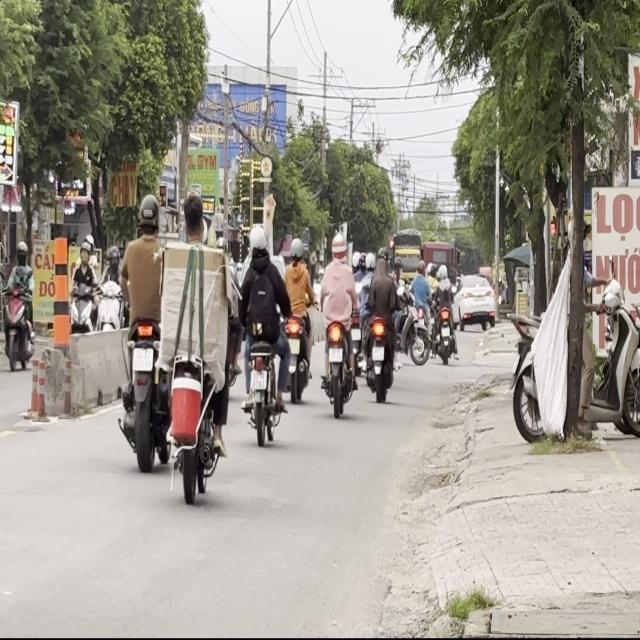helmet: (137, 191, 160, 234), (248, 223, 268, 258)
licenseplate: (160, 187, 236, 501), (115, 192, 171, 469), (239, 220, 289, 444)
motorcyclist: (182, 190, 206, 239)
nohelmet: (132, 346, 152, 372), (250, 370, 266, 389)
